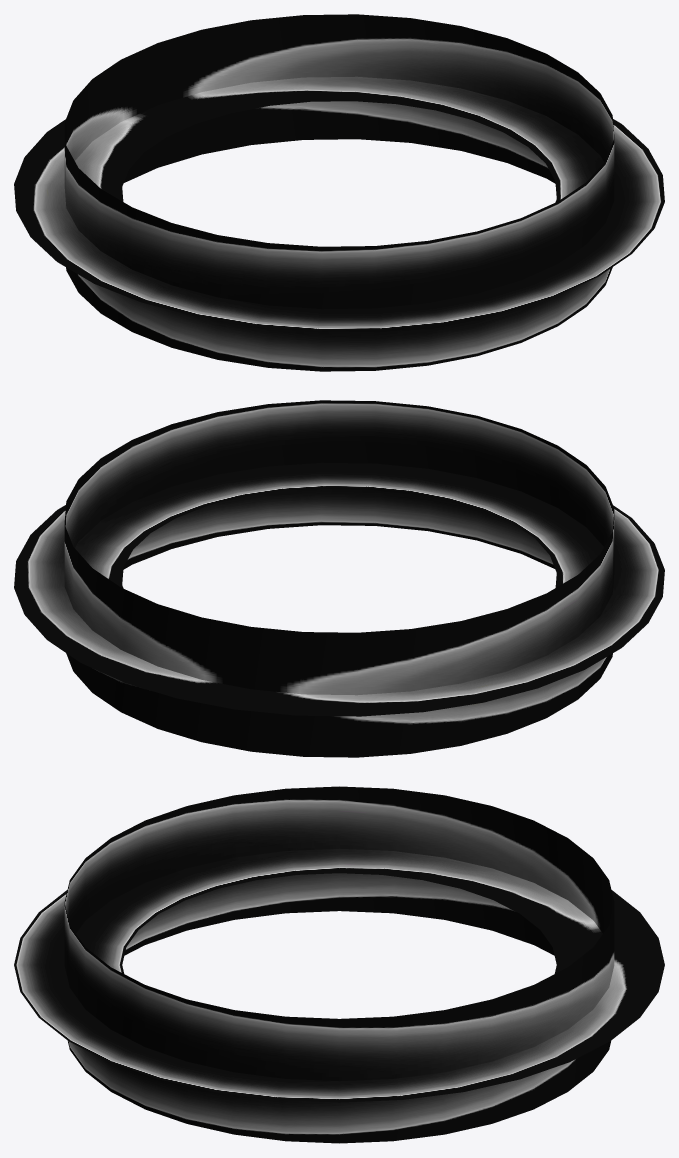
Rendered from 0273_dakelaiyi_ring_z01.glb.
3 renders of one model, top to bottom at view 1: azimuth 30°, elevation 25°; view 2: azimuth 150°, elevation 25°; view 3: azimuth 270°, elevation 25°, orthographic.
Bounding box in the file's own units: 2.2 × 0.4646 × 2.2.
Materials: 1 (1 with a texture image).
